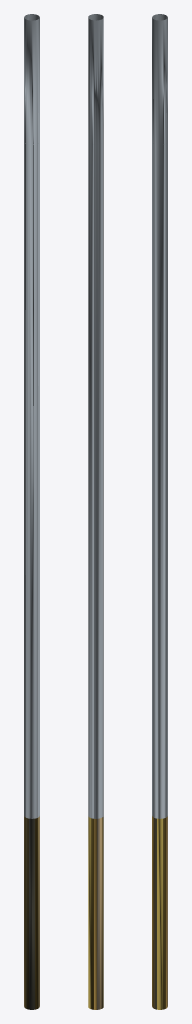
File: LightLamp10.fbx
3 views of the same model, side by side, from view 1: azimuth 90°, elevation 25°; view 2: azimuth 210°, elevation 25°; view 3: azimuth 270°, elevation 25° (orthographic).
Parts seen in each view (by area): view 1: LightLamp10; view 2: LightLamp10; view 3: LightLamp10.
Boxes of the visible parts, x1=… form: LightLamp10: x1=24, y1=14, x2=39, y2=1009; LightLamp10: x1=88, y1=14, x2=103, y2=1009; LightLamp10: x1=152, y1=14, x2=167, y2=1009.
Size of the model in its own units: 0.0737 by 5.12 by 0.0737.
Materials: 1 (1 with a texture image).
